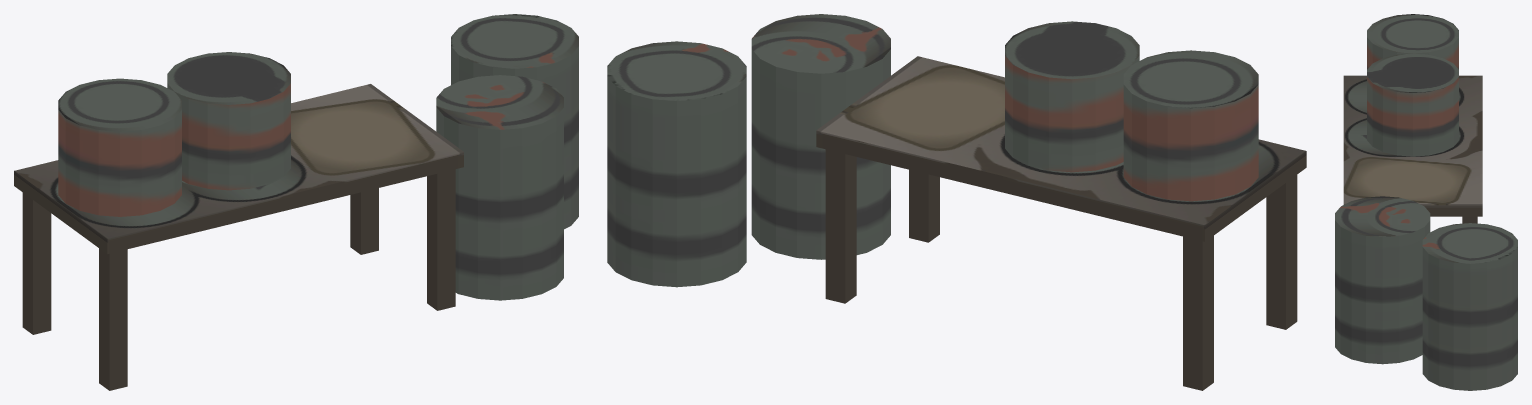
The model's file is Building_AncientTableBrewery.glb.
The picture shows the model from 3 angles, left to right: view 1: azimuth 30°, elevation 25°; view 2: azimuth 150°, elevation 25°; view 3: azimuth 270°, elevation 25°; orthographic projection. The views are drawn at different scales.
Visible parts, largest first — view 1: AncientTableBrewery; view 2: AncientTableBrewery; view 3: AncientTableBrewery.
Part boxes in pixels (bbox=[...]): AncientTableBrewery: bbox=[14, 14, 578, 390]; AncientTableBrewery: bbox=[607, 14, 1306, 390]; AncientTableBrewery: bbox=[1335, 14, 1517, 390].
Bounding box in the file's own units: 3.03 × 1.27 × 1.17.
Materials: 1 (1 with a texture image).
